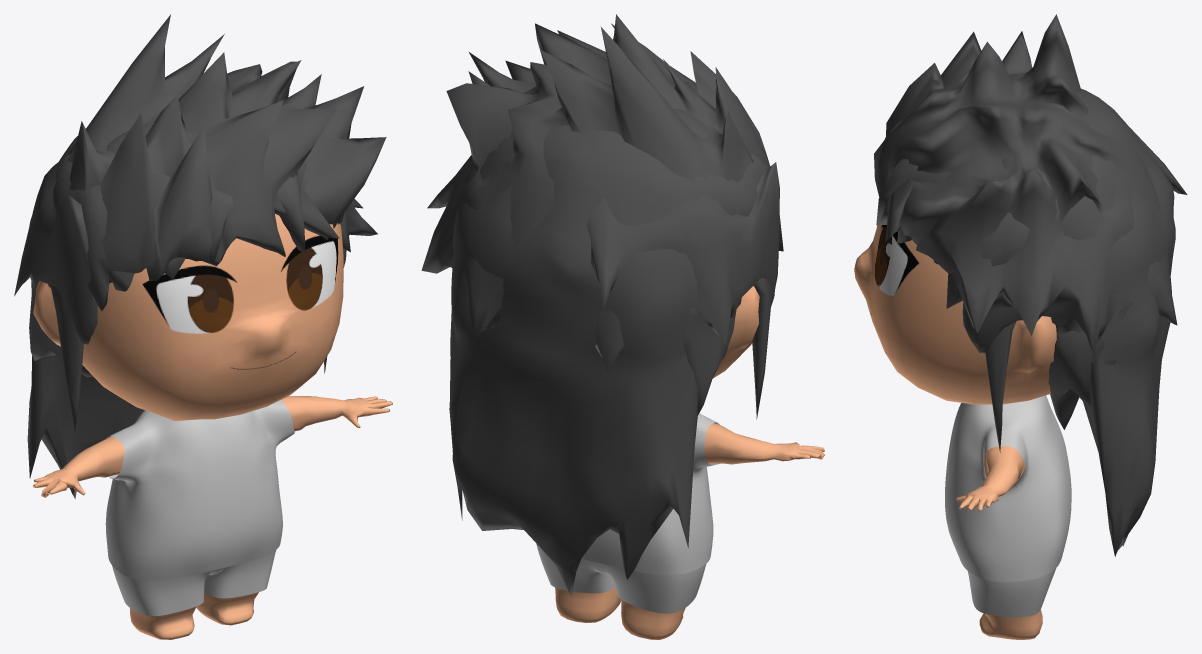
The picture shows the model from 3 angles, left to right: view 1: azimuth 30°, elevation 25°; view 2: azimuth 150°, elevation 25°; view 3: azimuth 270°, elevation 25°; orthographic projection. The views are drawn at different scales.
Parts seen in each view (by area): view 1: HAIR_1_L, Body, TSHIRT, HAIR_1_B, SHORT; view 2: HAIR_1_B, HAIR_1_L, Body, TSHIRT, SHORT; view 3: HAIR_1_L, HAIR_1_B, Body, TSHIRT, SHORT.
Boxes of the visible parts, bbox=[...] form: HAIR_1_L: bbox=[14, 14, 386, 377]; Body: bbox=[32, 214, 392, 639]; TSHIRT: bbox=[105, 400, 294, 580]; HAIR_1_B: bbox=[27, 121, 350, 498]; SHORT: bbox=[112, 550, 276, 616]; HAIR_1_B: bbox=[449, 108, 783, 595]; HAIR_1_L: bbox=[421, 14, 779, 416]; Body: bbox=[555, 286, 825, 639]; TSHIRT: bbox=[581, 413, 719, 574]; SHORT: bbox=[536, 543, 706, 613]; HAIR_1_L: bbox=[874, 14, 1187, 429]; HAIR_1_B: bbox=[876, 74, 1175, 556]; Body: bbox=[854, 225, 1056, 639]; TSHIRT: bbox=[945, 395, 1071, 581]; SHORT: bbox=[967, 568, 1056, 617].
Size of the model in its own units: 3.17 by 5.05 by 2.54.
